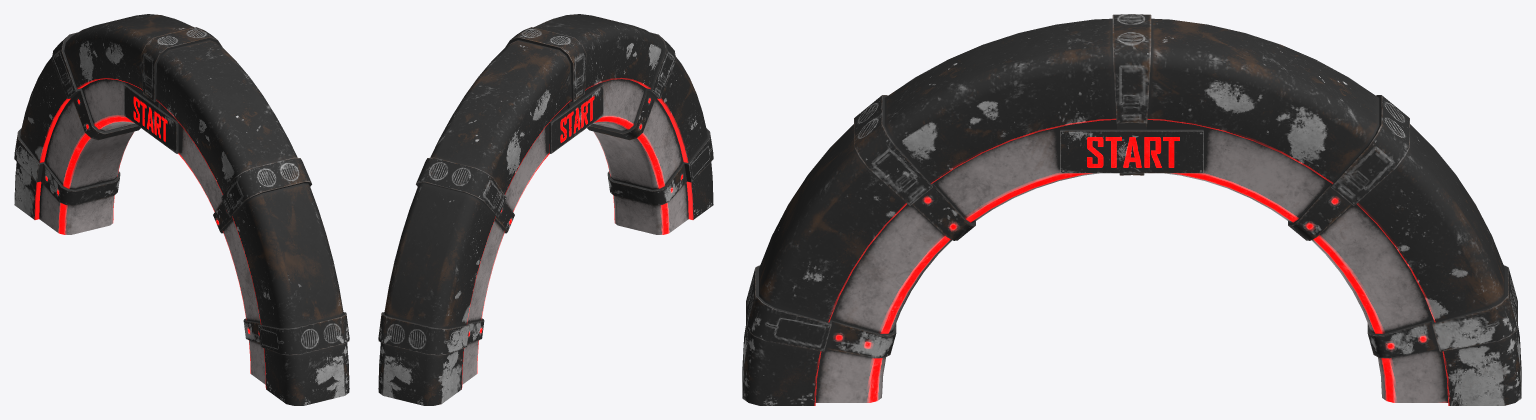
The model's file is SM_Start21.fbx.
The picture shows the model from 3 angles, left to right: view 1: azimuth 30°, elevation 25°; view 2: azimuth 150°, elevation 25°; view 3: azimuth 270°, elevation 25°; orthographic projection. The views are drawn at different scales.
Visible parts, largest first — view 1: SM_Start21_LOD0; view 2: SM_Start21_LOD0; view 3: SM_Start21_LOD0.
Part boxes in pixels (bbox=[...]): SM_Start21_LOD0: bbox=[14, 14, 349, 405]; SM_Start21_LOD0: bbox=[378, 14, 713, 405]; SM_Start21_LOD0: bbox=[742, 14, 1521, 405].
Bounding box in the file's own units: 343 × 2491 × 1257.
1 material, 1 textured.
